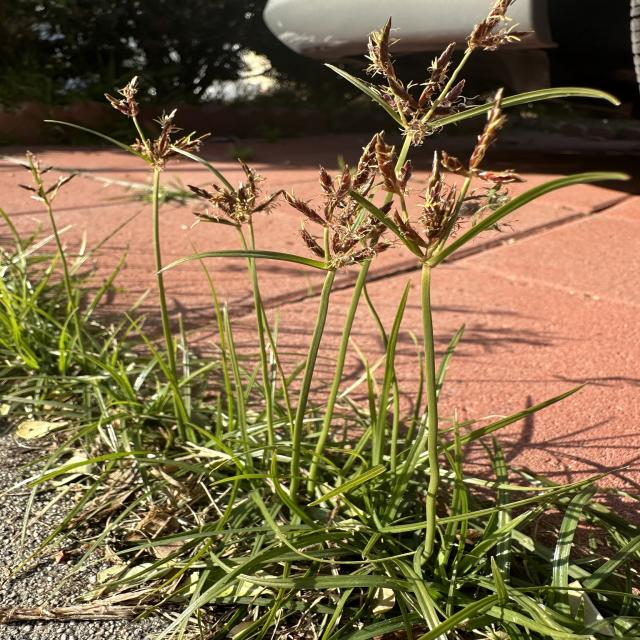cyperus: (271, 0, 549, 264), (94, 72, 214, 182), (182, 146, 282, 244), (11, 148, 83, 210)
